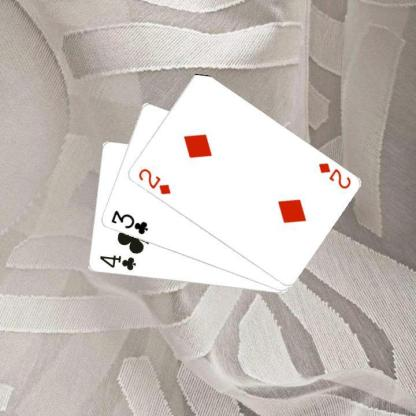2D: (315, 160, 352, 191), (135, 166, 172, 196)
3C: (108, 208, 149, 236)
4C: (96, 252, 137, 272)
